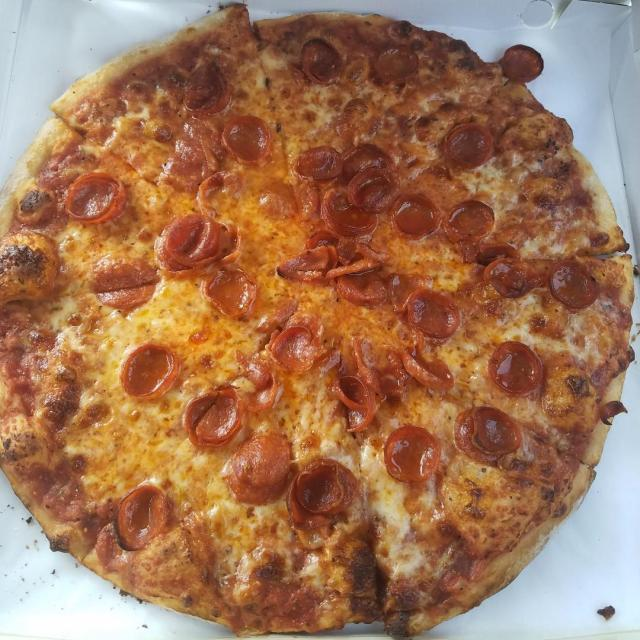pepperoni: (286, 454, 356, 528), (450, 406, 524, 464), (112, 484, 173, 552), (182, 388, 244, 448), (155, 213, 219, 270), (120, 343, 182, 400), (90, 254, 157, 306), (486, 339, 546, 397), (269, 310, 325, 372), (383, 424, 440, 484), (199, 265, 258, 321), (351, 336, 405, 397), (232, 432, 293, 484), (66, 174, 130, 223), (331, 374, 379, 439), (324, 234, 390, 281), (440, 121, 498, 174), (320, 185, 380, 236), (225, 460, 291, 506), (232, 347, 280, 409), (547, 256, 600, 312), (219, 114, 270, 170), (407, 288, 463, 338), (260, 180, 319, 226), (483, 254, 544, 297), (346, 167, 402, 213), (182, 65, 232, 116), (269, 246, 338, 282), (389, 193, 441, 240), (402, 346, 453, 393), (336, 272, 392, 312), (445, 201, 496, 244), (299, 37, 343, 85), (338, 147, 390, 187), (199, 171, 242, 218), (377, 44, 425, 84), (389, 271, 434, 310), (336, 98, 381, 136), (294, 145, 341, 181), (502, 44, 544, 83), (462, 243, 522, 266), (216, 215, 243, 264), (305, 229, 346, 250)
pizza: (0, 0, 640, 640)
